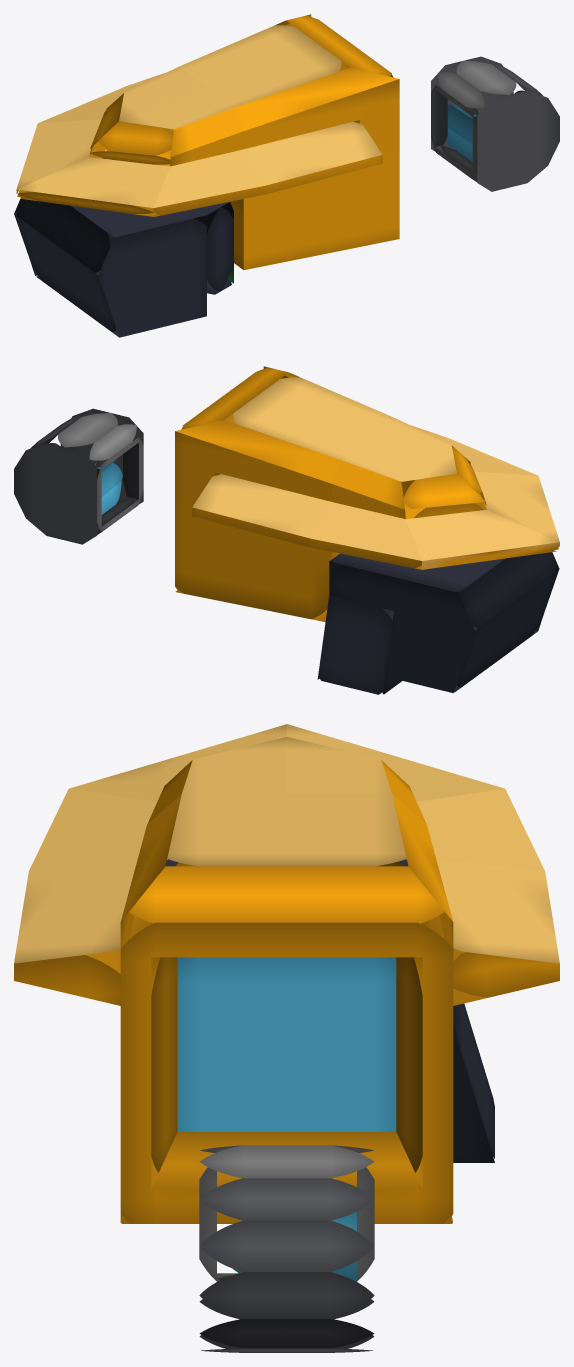
Rendered from SeriphLeftArm.obj.
3 renders of one model, top to bottom at view 1: azimuth 30°, elevation 25°; view 2: azimuth 150°, elevation 25°; view 3: azimuth 270°, elevation 25°, orthographic. The views are drawn at different scales.
Parts seen in each view (by area): view 1: Forearm, cuboid, cylinder; view 2: Forearm, cuboid, cylinder; view 3: Forearm, cylinder, cuboid.
Part boxes in pixels (left/top/right/bottom): Forearm: left=16, top=14, right=399, bottom=269; cuboid: left=14, top=158, right=233, bottom=337; cylinder: left=431, top=56, right=559, bottom=191; Forearm: left=175, top=366, right=559, bottom=621; cuboid: left=317, top=552, right=559, bottom=694; cylinder: left=14, top=408, right=143, bottom=544; Forearm: left=14, top=724, right=559, bottom=1223; cylinder: left=199, top=1145, right=374, bottom=1352; cuboid: left=165, top=859, right=494, bottom=1162.
Bounding box in the file's own units: 0.8076 × 0.3172 × 0.3896.
Materials: 1 (1 with a texture image).
